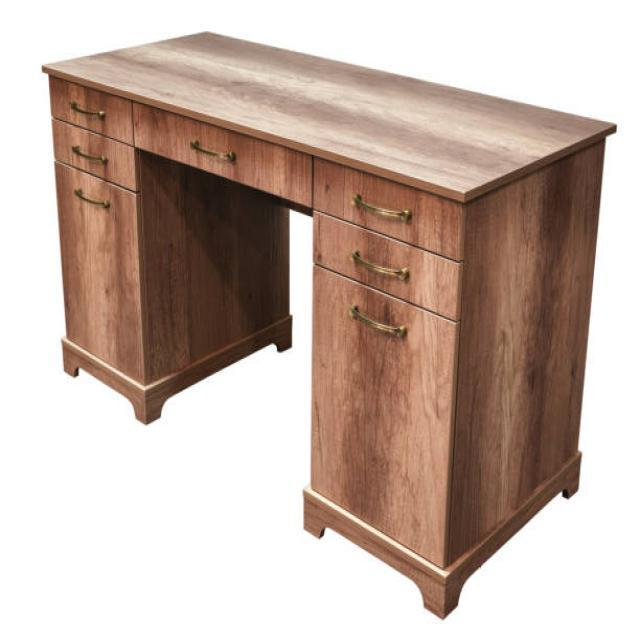table: (41, 28, 617, 620)
